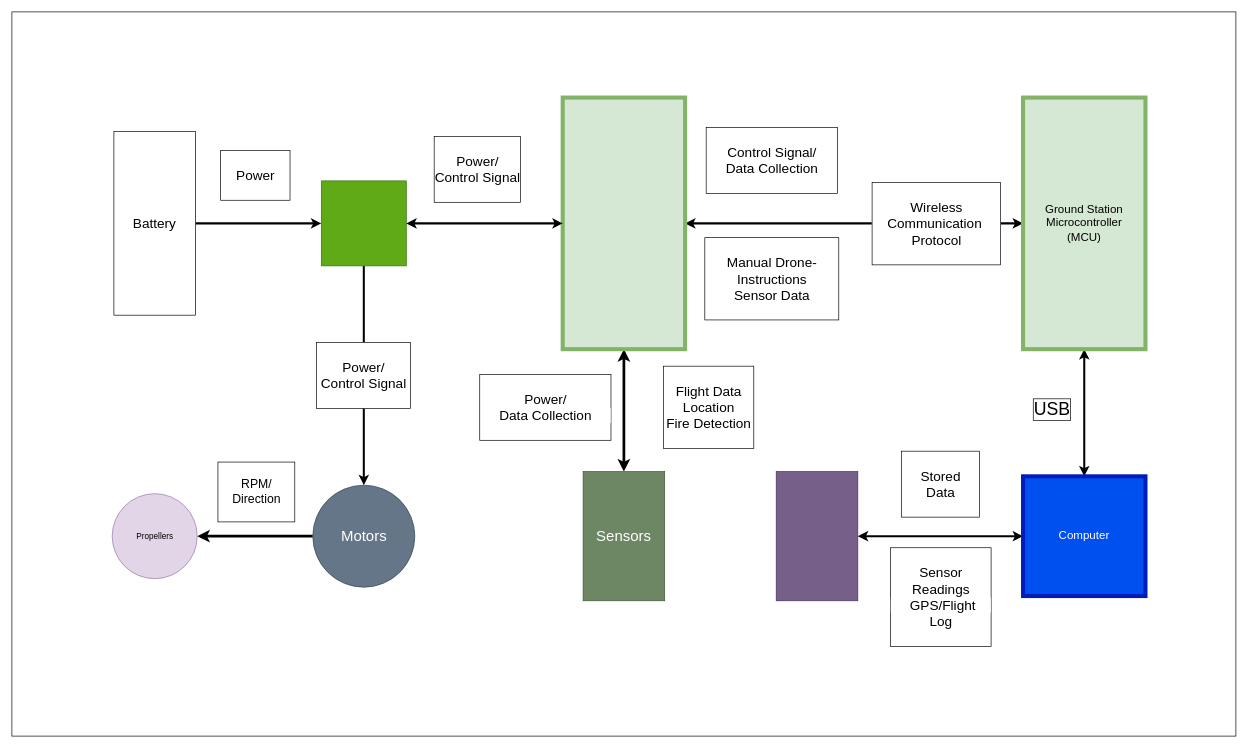
This 1248x748 diagram has some shape labels left out. The centre of each missing label's shape, as x and y in pixels:
Drone Microcontroller (MCU): point 623,223
Electronic Speed Controller (ESC): point 363,223
Server: point 817,536
